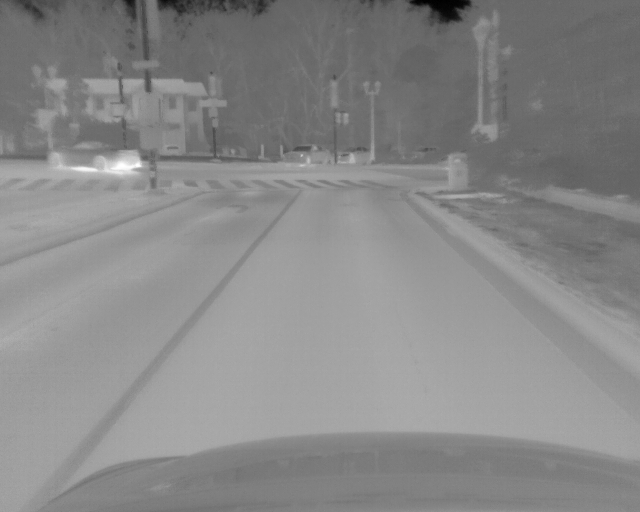car: (43, 137, 141, 172), (281, 144, 329, 165), (331, 144, 370, 167)
